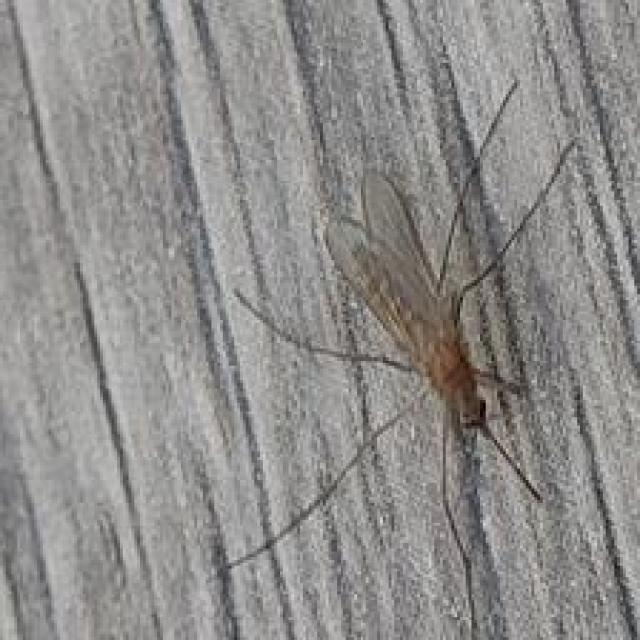Culex: (214, 76, 583, 638)
